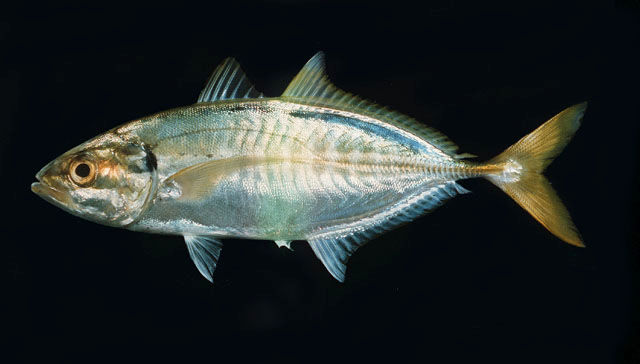fish: (31, 50, 589, 281)
